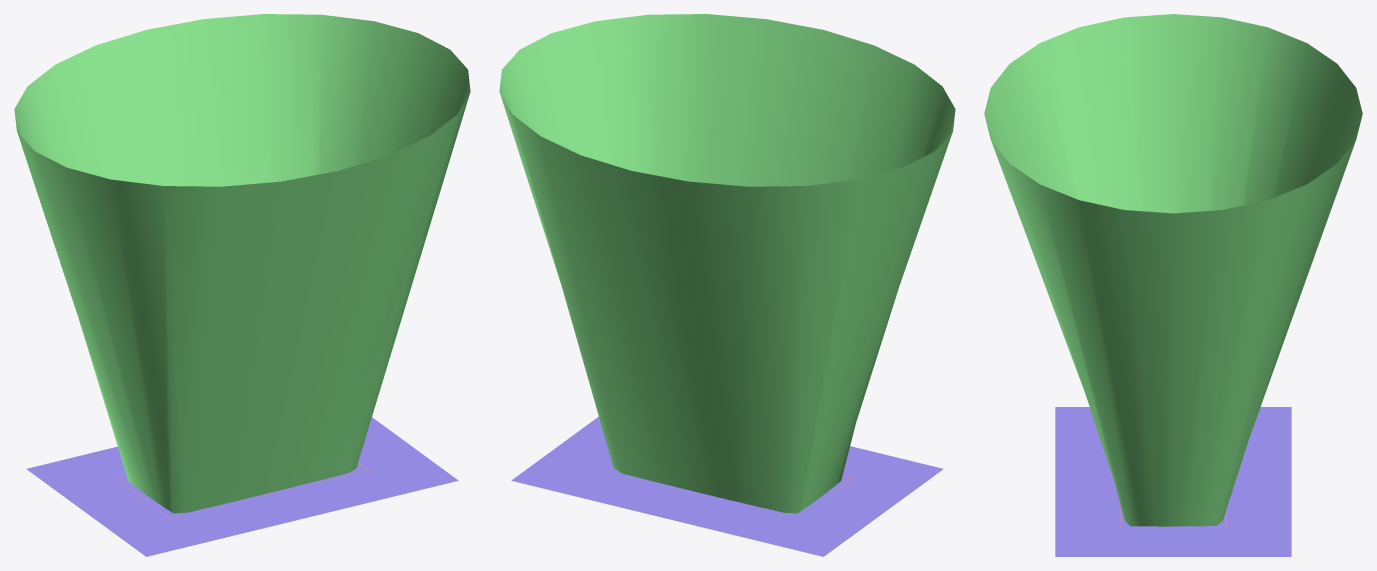
The model's file is Light_DengPian1_1X2_on.FBX.
The picture shows the model from 3 angles, left to right: view 1: azimuth 30°, elevation 25°; view 2: azimuth 150°, elevation 25°; view 3: azimuth 270°, elevation 25°; orthographic projection.
Parts seen in each view (by area): view 1: Box002; view 2: Box002; view 3: Box002.
Boxes of the visible parts, <box> form: Box002: <box>14,14,470,556</box>; Box002: <box>499,14,955,556</box>; Box002: <box>984,14,1362,556</box>.
Bounding box in the file's own units: 3.99 × 3.64 × 3.2.
